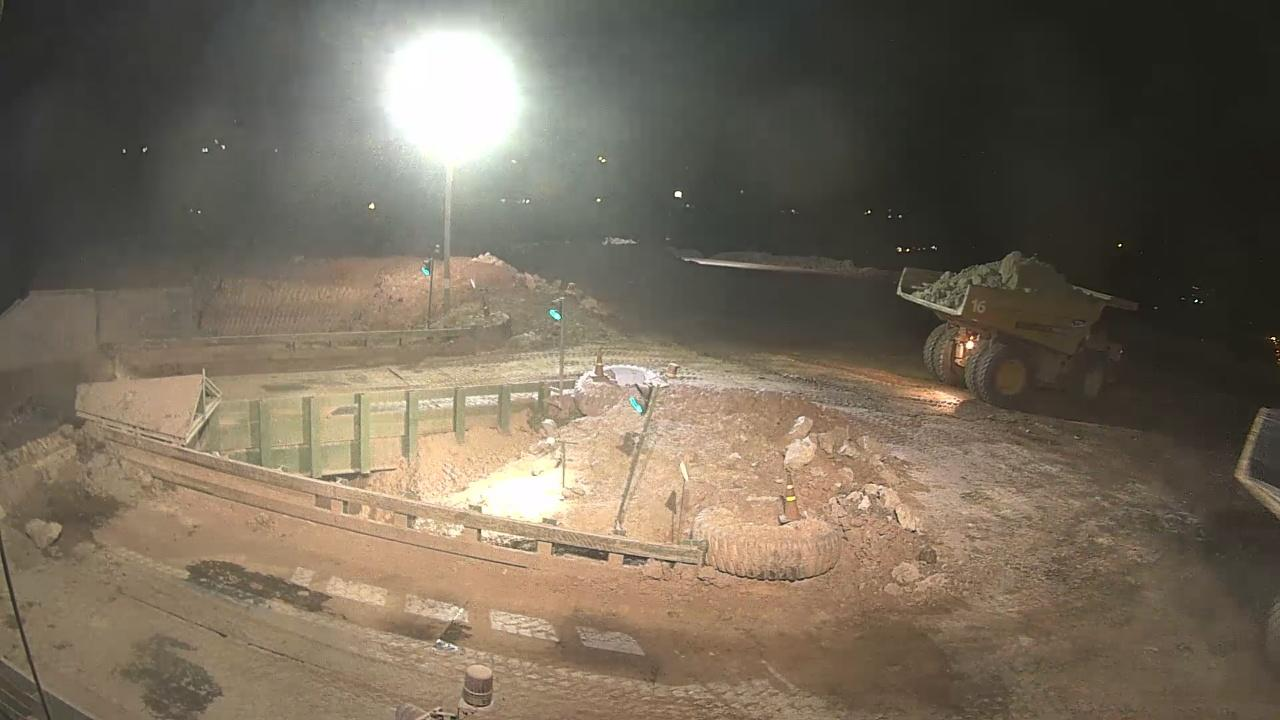full_load: (937, 256, 1092, 290)
mining_truck: (894, 248, 1140, 408)
tail_number: (967, 292, 990, 320)
